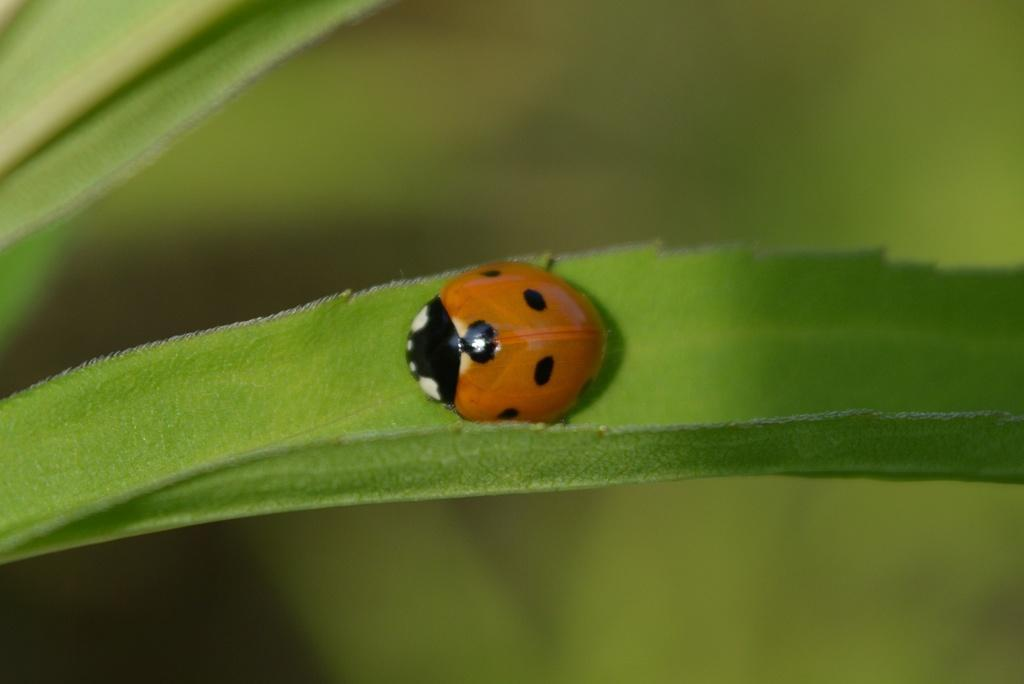ladybug: (403, 255, 617, 427)
